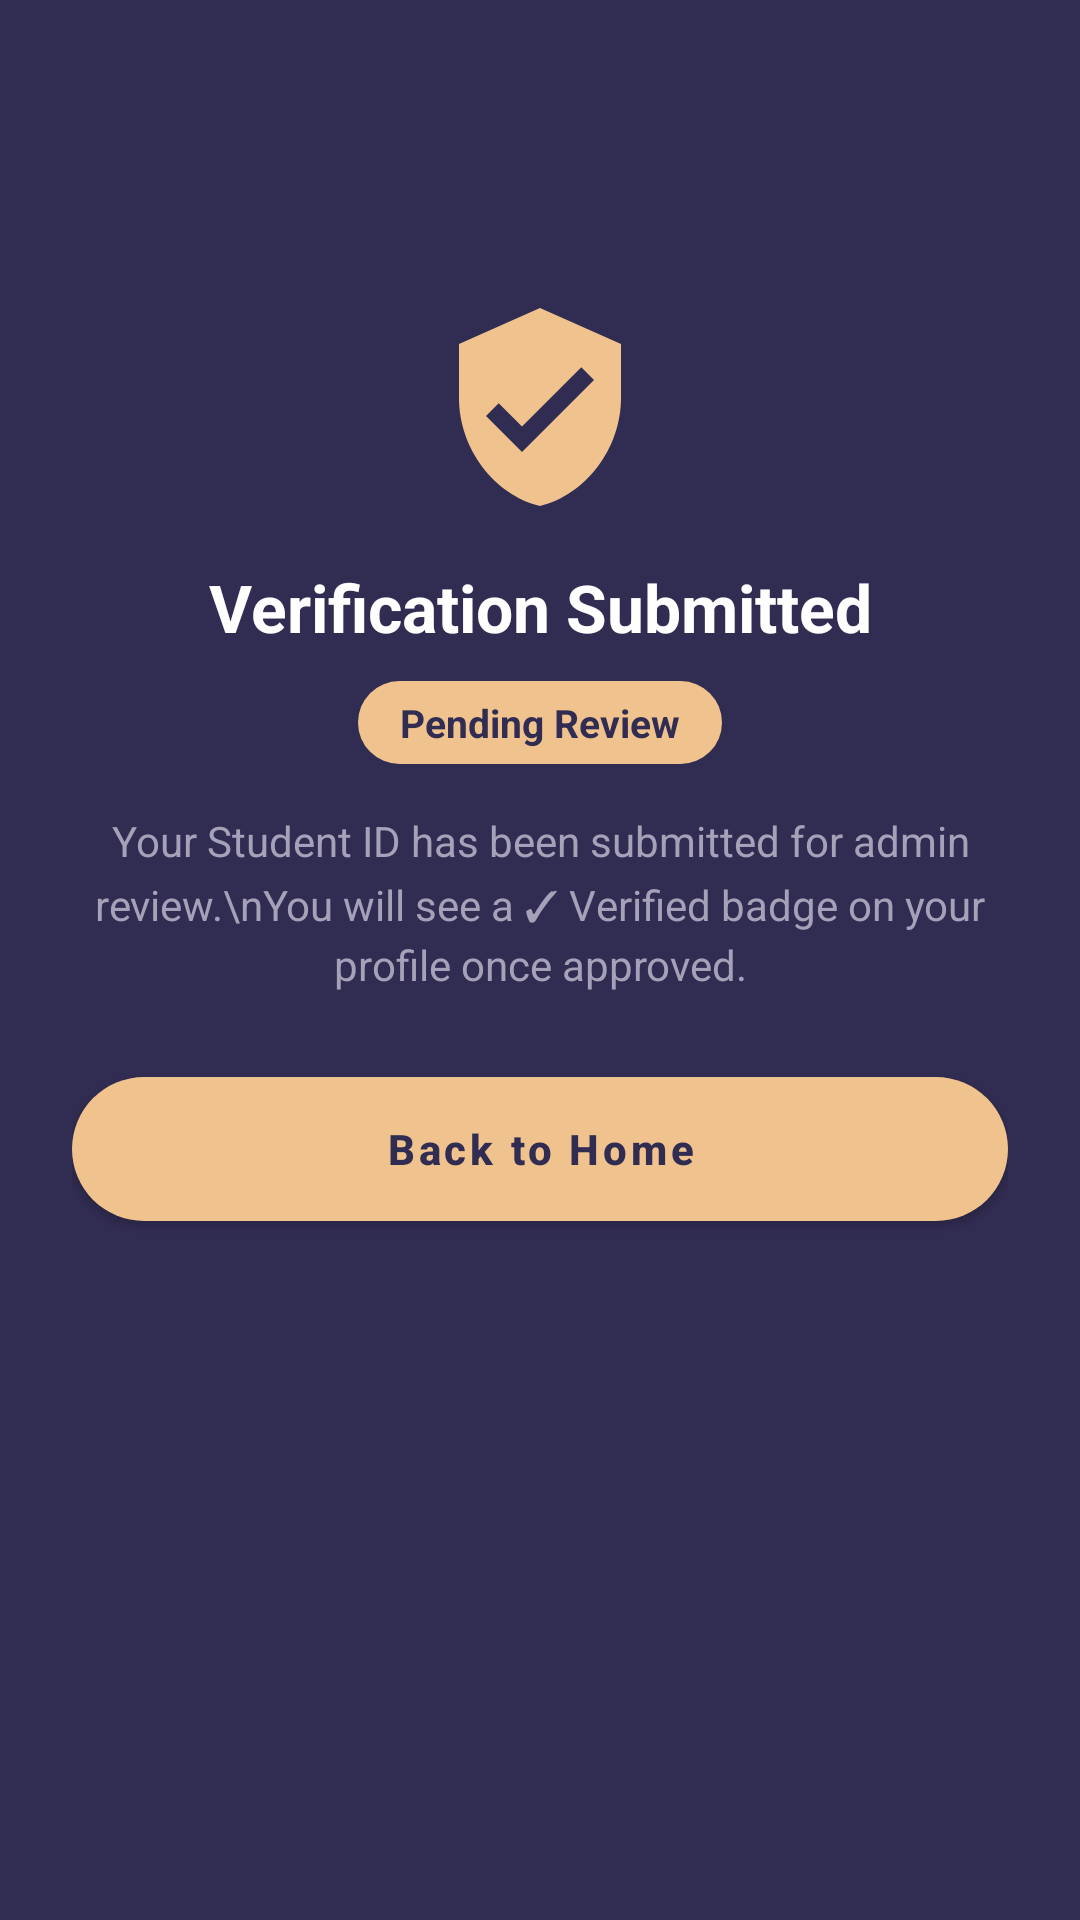

Icons on this 1080×1920 Android screen, each with the point to tap as point (x, y):
Status: point (540, 407)
